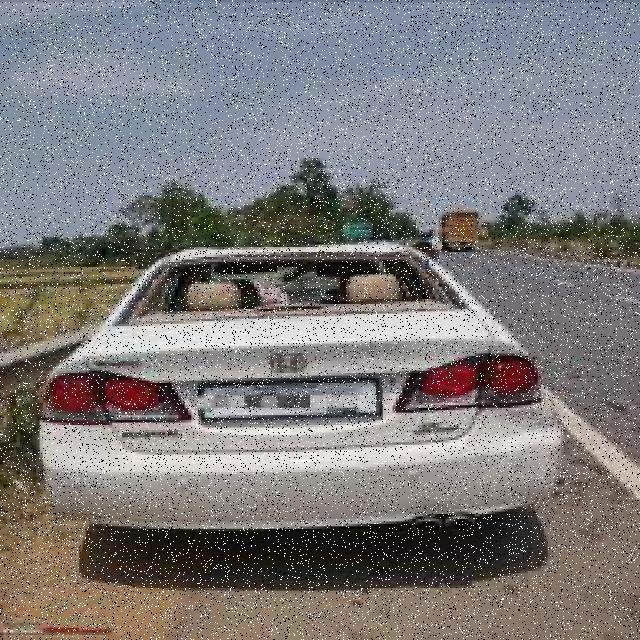Rear-windscreen-Damage: (116, 242, 466, 329)
